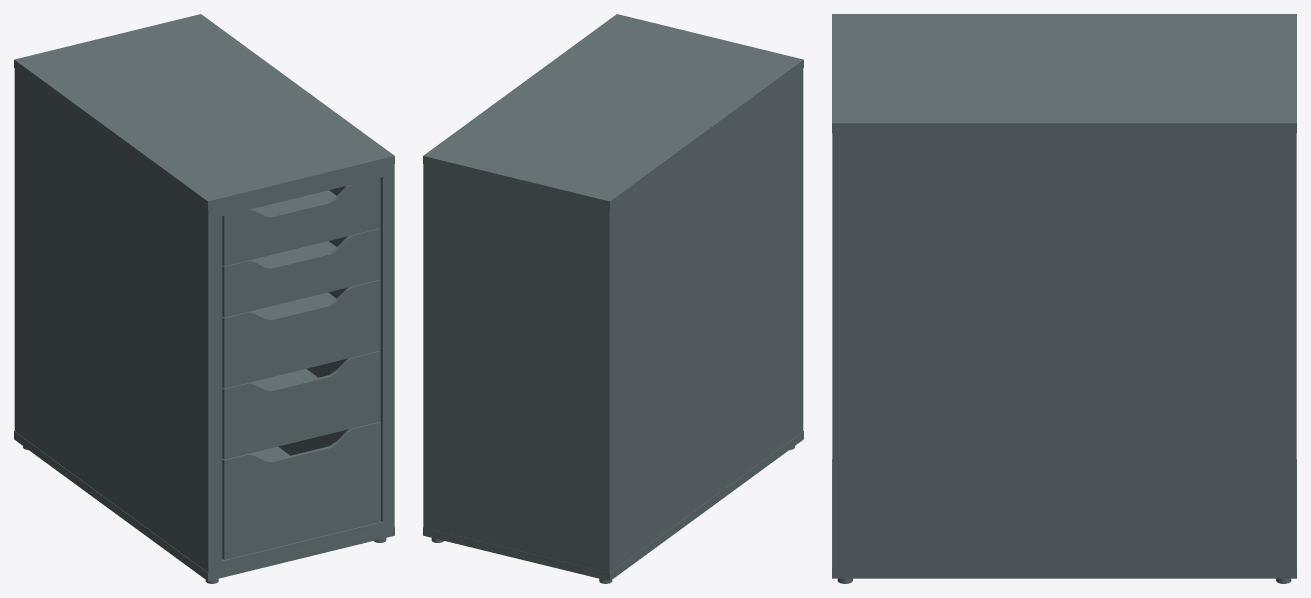
The model's file is cajonera.glb.
3 views of the same model, side by side, from view 1: azimuth 30°, elevation 25°; view 2: azimuth 150°, elevation 25°; view 3: azimuth 270°, elevation 25° (orthographic). The views are drawn at different scales.
Parts seen in each view (by area): view 1: ALEX; view 2: ALEX; view 3: ALEX.
Part boxes in pixels (box(x1,y1,x2,y2)): ALEX: box(14, 14, 394, 583); ALEX: box(423, 14, 803, 583); ALEX: box(832, 14, 1296, 583).
Size of the model in its own units: 1003 by 1980 by 1802.
1 material, 1 textured.
